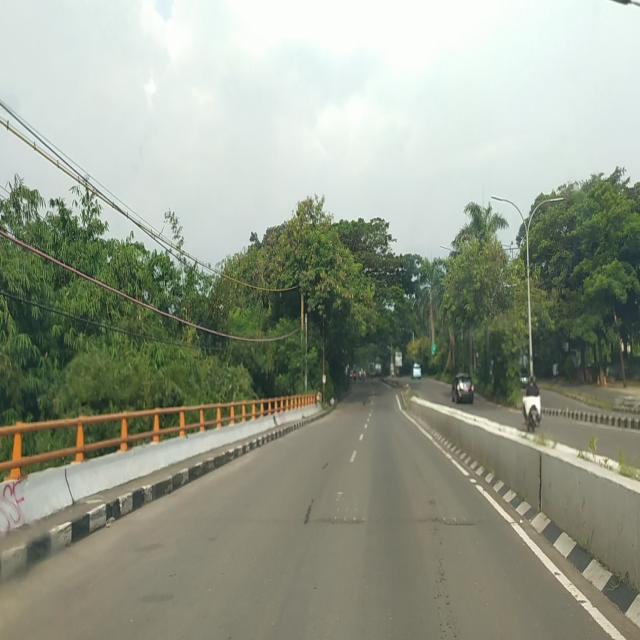Sewer Cover: (415, 516, 477, 528), (304, 516, 366, 526)
